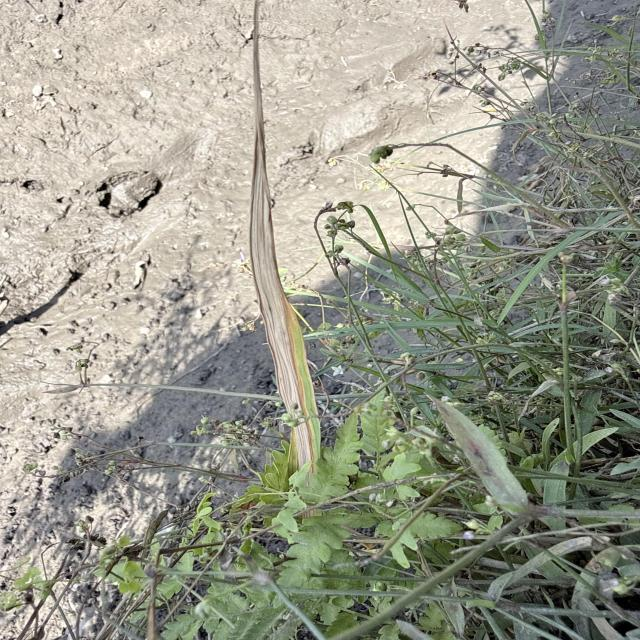Chay bia la: (249, 0, 312, 475)
